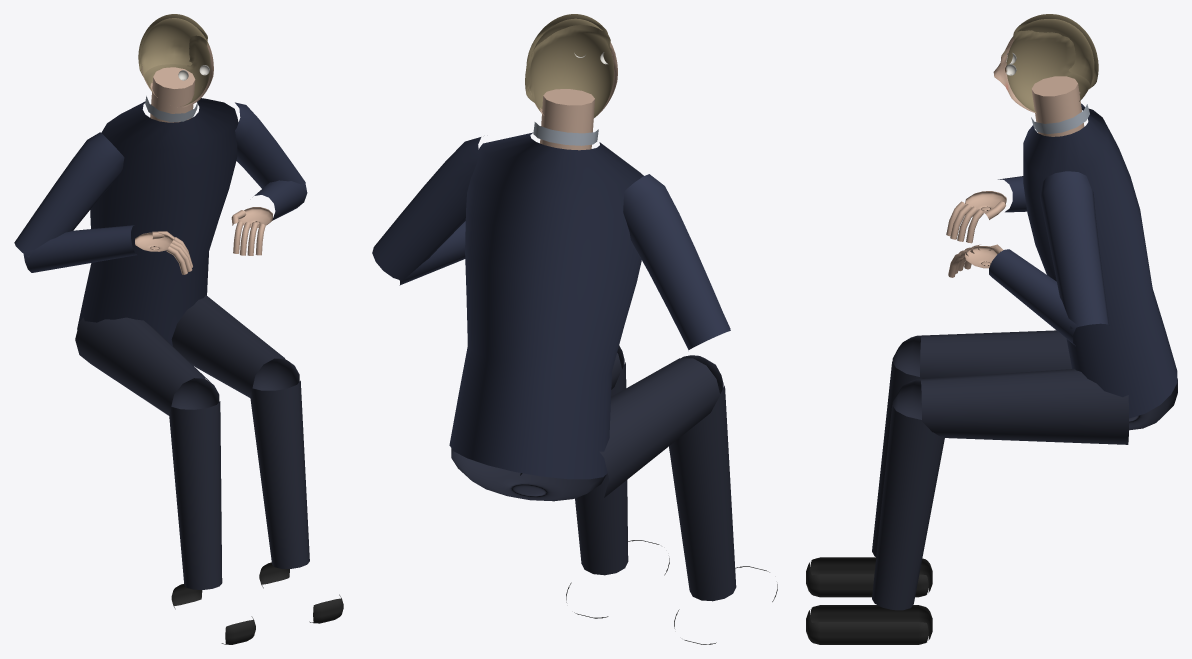
Rendered from helm_seated.glb.
3 renders of one model, left to right at view 1: azimuth 30°, elevation 25°; view 2: azimuth 150°, elevation 25°; view 3: azimuth 270°, elevation 25°, orthographic. The views are drawn at different scales.
Visible parts, largest first — view 1: body, head; view 2: body, head; view 3: body, head.
Part boxes in pixels (<box>): body: <box>14,67,343,644</box>; head: <box>138,14,213,107</box>; body: <box>372,89,777,644</box>; head: <box>525,14,617,118</box>; body: <box>806,76,1177,644</box>; head: <box>993,14,1098,113</box>.
Size of the model in its own units: 0.7801 by 1.41 by 0.7922.
